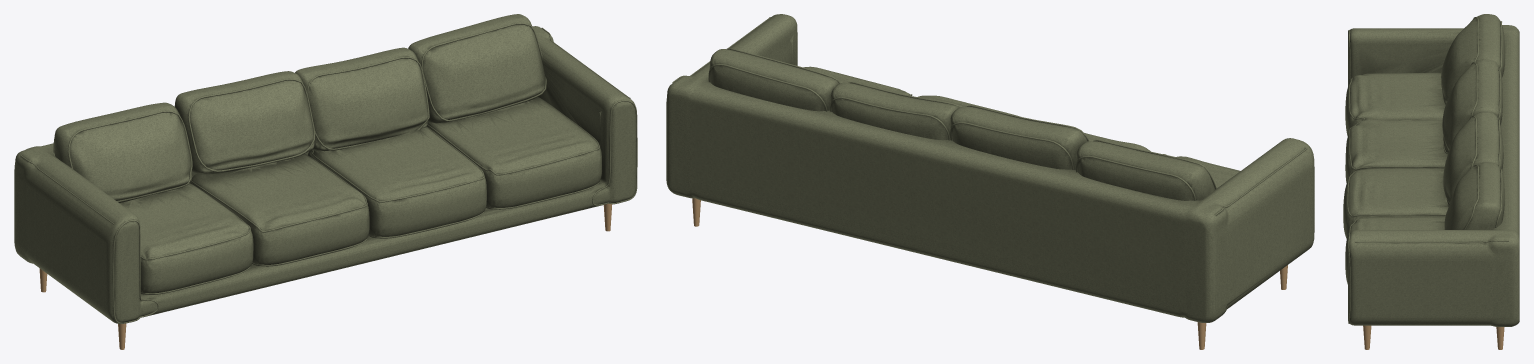
Rendered from lino-oliva.gltf.
The picture shows the model from 3 angles, left to right: view 1: azimuth 30°, elevation 25°; view 2: azimuth 150°, elevation 25°; view 3: azimuth 270°, elevation 25°; orthographic projection. The views are drawn at different scales.
Parts seen in each view (by area): view 1: tela_ar, madera_ar; view 2: tela_ar, madera_ar; view 3: tela_ar, madera_ar.
Part boxes in pixels (x1,y1,x2,y2): tela_ar: [14, 14, 637, 323]; madera_ar: [39, 203, 612, 349]; tela_ar: [666, 14, 1314, 322]; madera_ar: [692, 198, 1287, 349]; tela_ar: [1343, 14, 1519, 326]; madera_ar: [1363, 325, 1504, 349].
Size of the model in its own units: 2.7 by 0.8297 by 0.9224.
2 materials, 2 textured.
